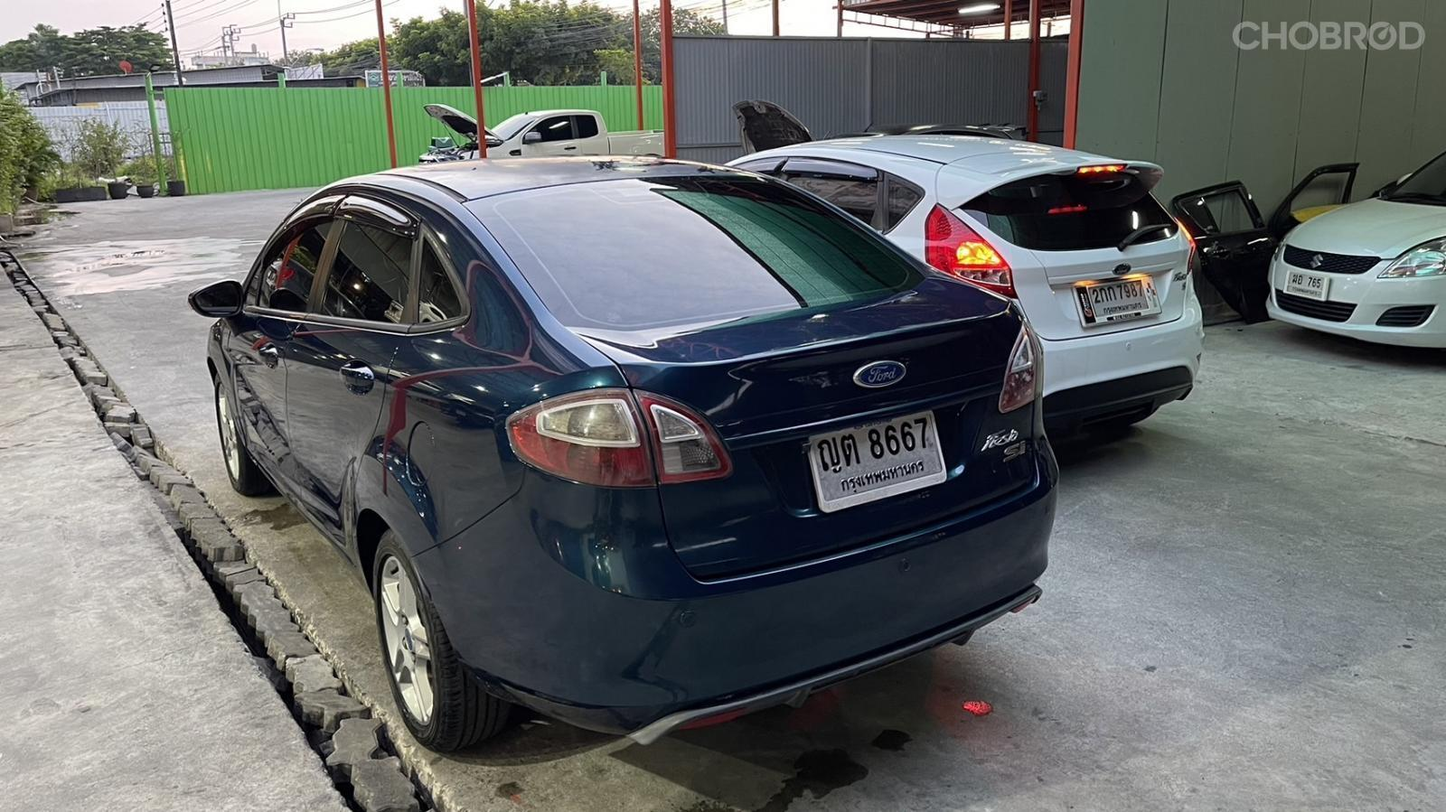license-plate: (800, 403, 950, 515)
